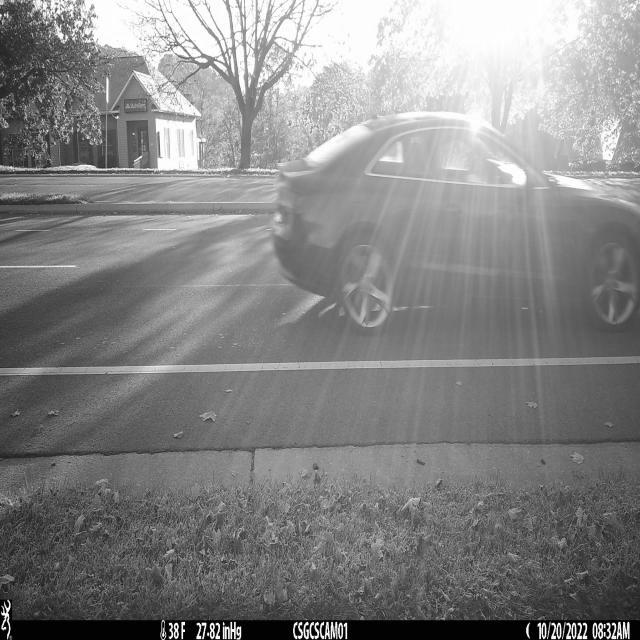Sedan: (270, 113, 640, 335)
